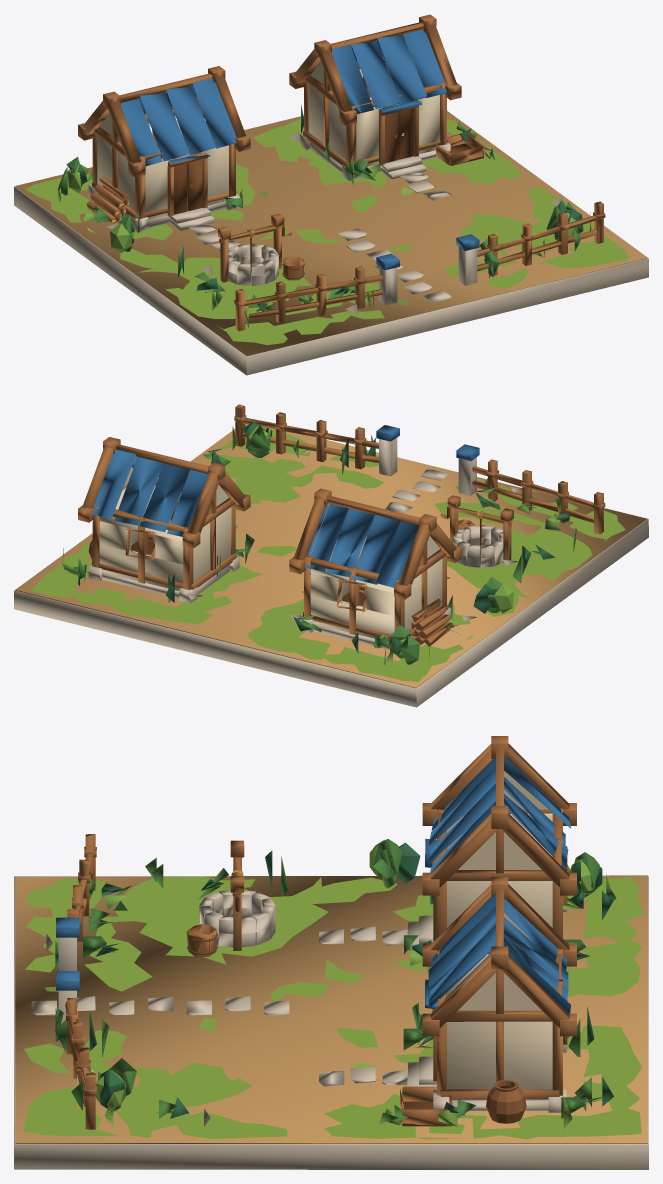
File: city-2-lod2-3b11f41e0cbc.glb
The picture shows the model from 3 angles, top to bottom: view 1: azimuth 30°, elevation 25°; view 2: azimuth 150°, elevation 25°; view 3: azimuth 270°, elevation 25°; orthographic projection. The views are drawn at different scales.
Visible parts, largest first — view 1: SM_CT2_V4_Batch_1.001, SM_CT2_V4_Batch_38.001, SM_CT2_V4_Batch_0.001, SM_CT2_V4_Batch_51.001, SM_CT2_V4_Batch_37.001, SM_CT2_V4_Batch_4.001, SM_CT2_V4_Batch_7.001, SM_CT2_V4_Batch_44.001, SM_CT2_V4_Batch_45.001, SM_CT2_V4_Batch_46.001; view 2: SM_CT2_V4_Batch_1.001, SM_CT2_V4_Batch_38.001, SM_CT2_V4_Batch_51.001, SM_CT2_V4_Batch_0.001, SM_CT2_V4_Batch_37.001, SM_CT2_V4_Batch_4.001, SM_CT2_V4_Batch_44.001, SM_CT2_V4_Batch_46.001, SM_CT2_V4_Batch_45.001; view 3: SM_CT2_V4_Batch_1.001, SM_CT2_V4_Batch_51.001, SM_CT2_V4_Batch_0.001, SM_CT2_V4_Batch_38.001, SM_CT2_V4_Batch_37.001, SM_CT2_V4_Batch_4.001, SM_CT2_V4_Batch_44.001, SM_CT2_V4_Batch_46.001, SM_CT2_V4_Batch_45.001, SM_CT2_V4_Batch_41.001, SM_CT2_V4_Batch_7.001.
Part boxes in pixels (box(x1,y1,x2,y2)): SM_CT2_V4_Batch_1.001: box(15, 111, 647, 356); SM_CT2_V4_Batch_38.001: box(78, 14, 605, 331); SM_CT2_V4_Batch_0.001: box(14, 133, 648, 375); SM_CT2_V4_Batch_51.001: box(25, 118, 628, 345); SM_CT2_V4_Batch_37.001: box(120, 29, 479, 269); SM_CT2_V4_Batch_4.001: box(97, 63, 439, 220); SM_CT2_V4_Batch_7.001: box(119, 108, 483, 278); SM_CT2_V4_Batch_44.001: box(57, 122, 581, 311); SM_CT2_V4_Batch_45.001: box(56, 131, 591, 328); SM_CT2_V4_Batch_46.001: box(67, 104, 583, 311); SM_CT2_V4_Batch_1.001: box(15, 423, 647, 688); SM_CT2_V4_Batch_38.001: box(78, 404, 605, 646); SM_CT2_V4_Batch_51.001: box(30, 427, 625, 681); SM_CT2_V4_Batch_0.001: box(14, 437, 648, 707); SM_CT2_V4_Batch_37.001: box(92, 425, 479, 587); SM_CT2_V4_Batch_4.001: box(99, 467, 442, 641); SM_CT2_V4_Batch_44.001: box(63, 425, 576, 665); SM_CT2_V4_Batch_46.001: box(78, 422, 570, 657); SM_CT2_V4_Batch_45.001: box(62, 426, 561, 665); SM_CT2_V4_Batch_1.001: box(15, 875, 647, 1143); SM_CT2_V4_Batch_51.001: box(23, 876, 644, 1139); SM_CT2_V4_Batch_0.001: box(14, 876, 648, 1169); SM_CT2_V4_Batch_38.001: box(65, 736, 576, 1129); SM_CT2_V4_Batch_37.001: box(56, 757, 570, 1013); SM_CT2_V4_Batch_4.001: box(447, 771, 552, 1100); SM_CT2_V4_Batch_44.001: box(55, 839, 616, 1124); SM_CT2_V4_Batch_46.001: box(55, 842, 613, 1118); SM_CT2_V4_Batch_45.001: box(58, 839, 610, 1128); SM_CT2_V4_Batch_41.001: box(486, 1079, 526, 1123); SM_CT2_V4_Batch_7.001: box(187, 896, 451, 1126).
Size of the model in its own units: 9.99 by 3.31 by 9.99.
Materials: 16 (5 with a texture image).
